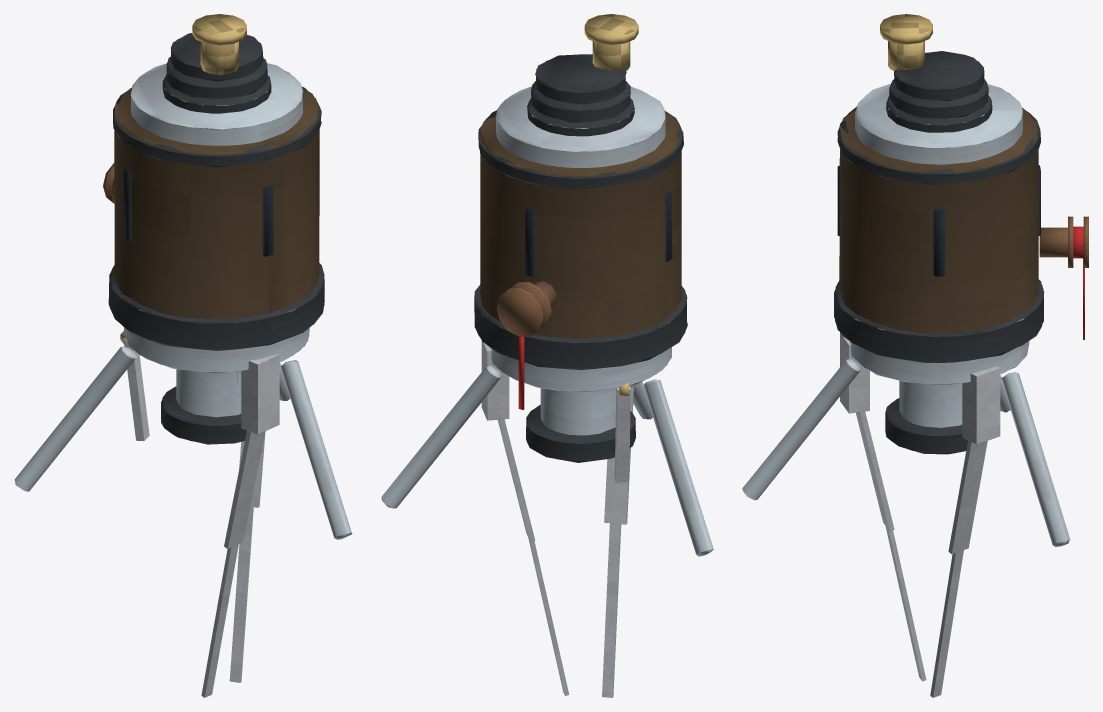
The model's file is claw_scissors.glb.
3 renders of one model, left to right at view 1: azimuth 30°, elevation 25°; view 2: azimuth 150°, elevation 25°; view 3: azimuth 270°, elevation 25°, orthographic. The views are drawn at different scales.
Parts seen in each view (by area): view 1: Hand, Jaw0, Jaw1, Jaw2; view 2: Hand, Jaw0, Jaw1, Jaw2; view 3: Hand, Jaw1, Jaw0.
Part boxes in pixels (box(x1,y1,x2,y2)): Hand: box(14, 14, 352, 539); Jaw0: box(201, 354, 279, 697); Jaw1: box(229, 431, 265, 682); Jaw2: box(120, 331, 149, 440); Hand: box(381, 14, 713, 556); Jaw0: box(602, 383, 638, 697); Jaw1: box(481, 340, 569, 695); Jaw2: box(614, 382, 630, 482); Hand: box(742, 14, 1088, 546); Jaw1: box(930, 366, 1000, 697); Jaw0: box(840, 333, 926, 681).
Size of the model in its own units: 0.7756 by 1.63 by 0.7814.
8 materials, 8 textured.
